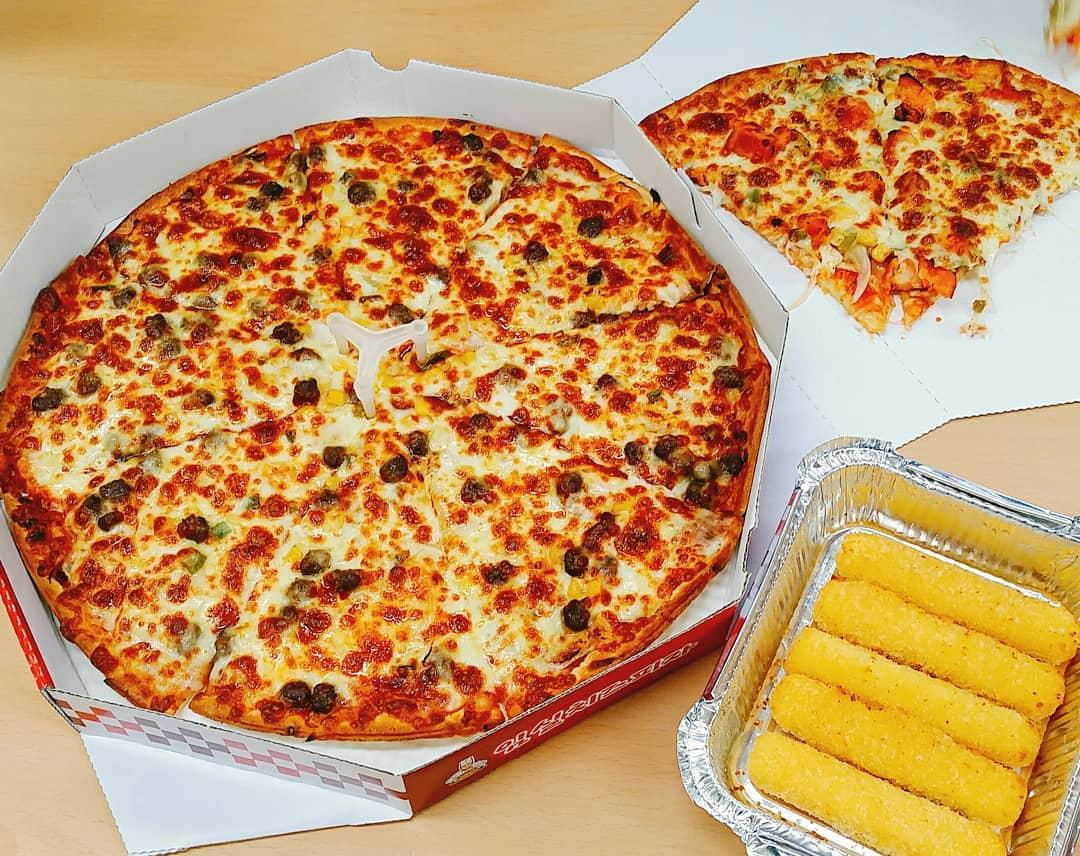Pizza: (0, 114, 769, 740), (637, 53, 1080, 338)
